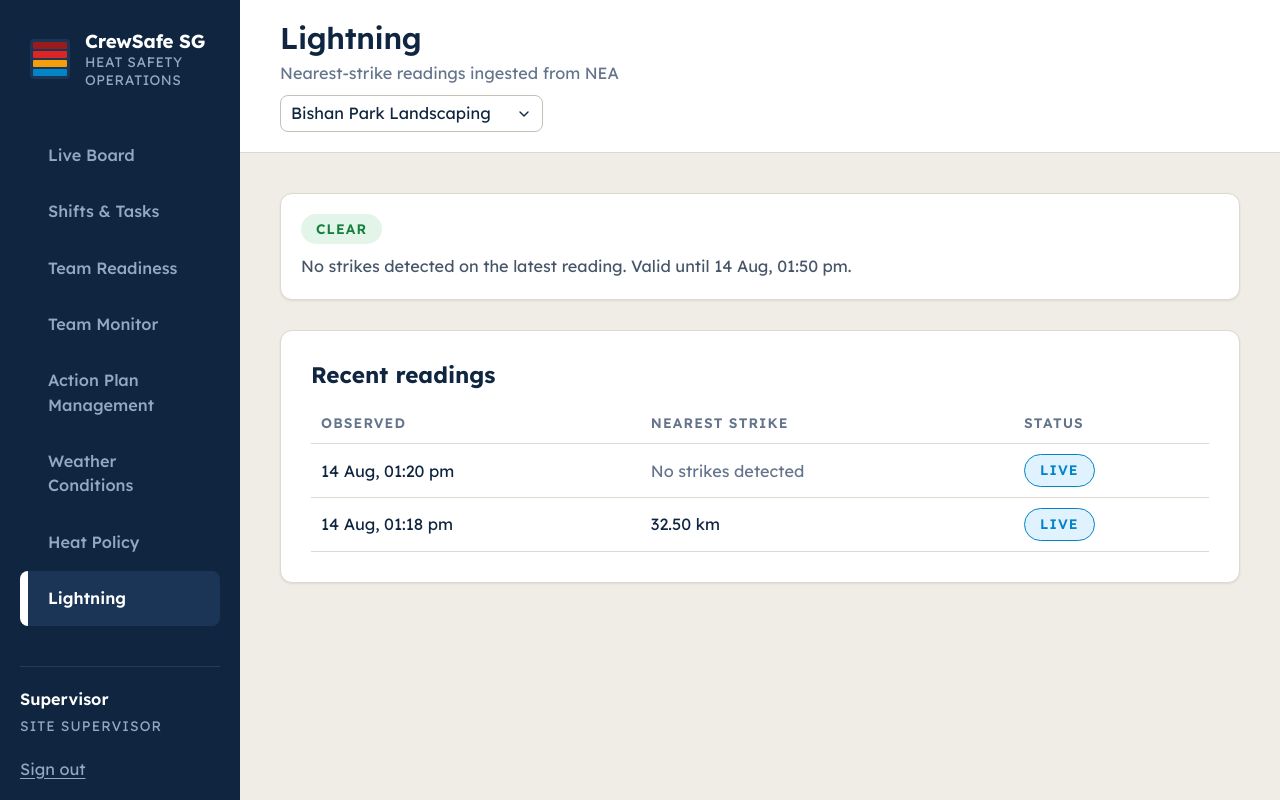
Test: LightningHistory › shows an empty state when the site has no readings yet
expect the text "Clear" is shown: met, box [301,214,382,244]
Select "NUS Campus Maintenance" in the dropdown named "Site" at (412, 114), box [280,95,543,132]
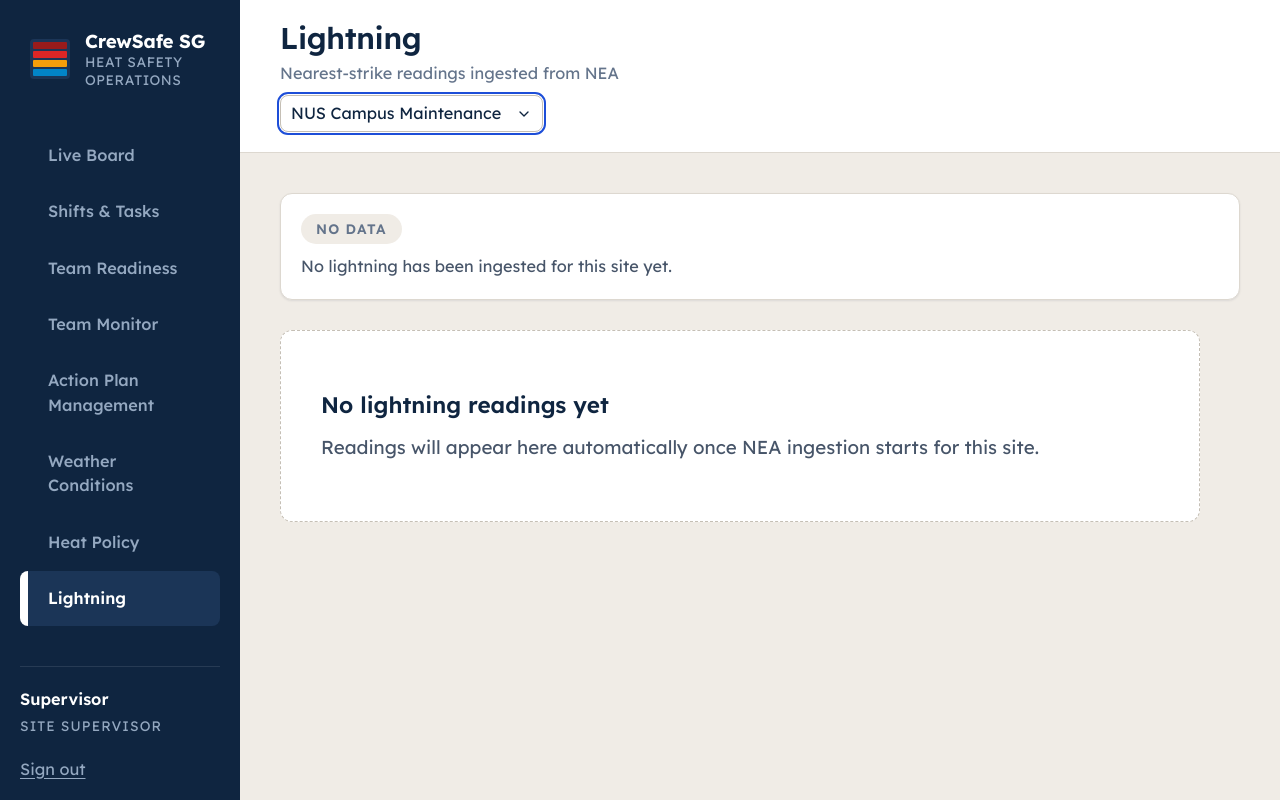
expect the heading "No lightning readings yet" is shown: met, box [321,391,609,418]
